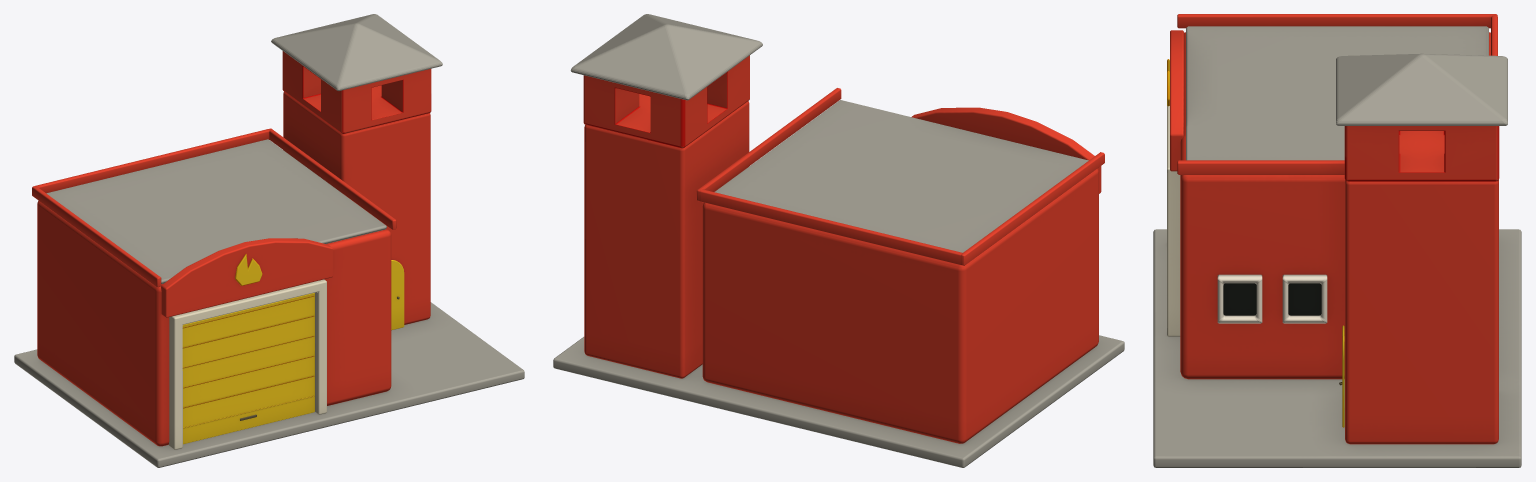
File: fire-station.fbx
3 views of the same model, side by side, from view 1: azimuth 30°, elevation 25°; view 2: azimuth 150°, elevation 25°; view 3: azimuth 270°, elevation 25° (orthographic). The views are drawn at different scales.
Parts seen in each view (by area): view 1: fire-station; view 2: fire-station; view 3: fire-station.
Boxes of the visible parts, left/top/right/bottom form: fire-station: left=14, top=14, right=524, bottom=467; fire-station: left=553, top=14, right=1124, bottom=467; fire-station: left=1153, top=14, right=1521, bottom=467.
Bounding box in the file's own units: 5000 × 3819 × 3400.
Materials: 1 (1 with a texture image).
